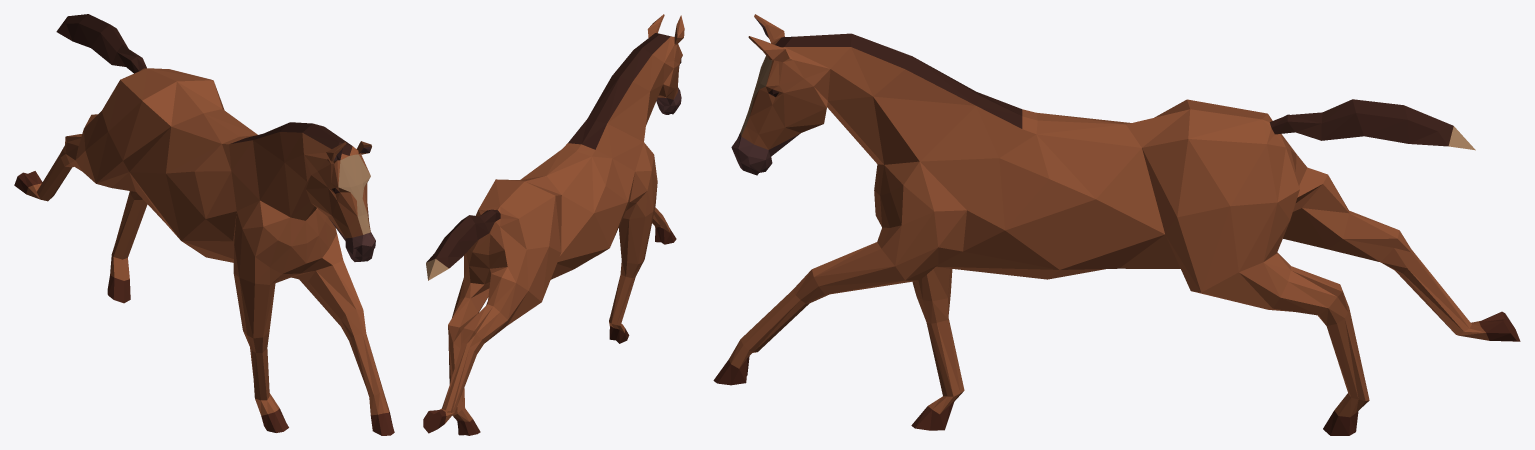
The model's file is Horse.glb.
3 views of the same model, side by side, from view 1: azimuth 30°, elevation 25°; view 2: azimuth 150°, elevation 25°; view 3: azimuth 270°, elevation 25° (orthographic). The views are drawn at different scales.
Size of the model in its own units: 61.1 by 182 by 322.
